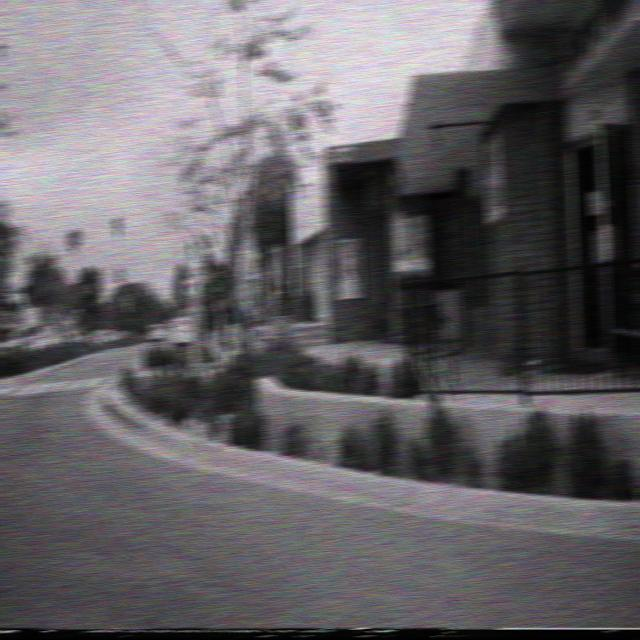pedestrianCrossing: (177, 224, 206, 277)
